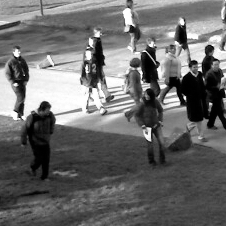person: (20, 101, 58, 181), (134, 87, 167, 164), (181, 59, 209, 141), (3, 45, 29, 121), (86, 38, 115, 103), (80, 48, 106, 116), (161, 44, 188, 106), (122, 55, 146, 122), (206, 58, 226, 129), (141, 37, 163, 99), (173, 15, 194, 71), (121, 1, 142, 53), (94, 25, 108, 91), (202, 43, 222, 80), (219, 1, 226, 52)
